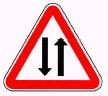Transito nos dois sentidos: (4, 3, 101, 91)
